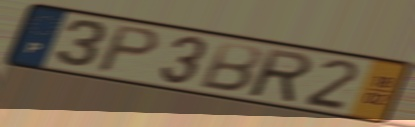2: (299, 59, 362, 113)
3: (54, 18, 112, 70), (156, 34, 209, 87)
B: (196, 39, 265, 94)
P: (92, 23, 164, 76)
R: (248, 46, 315, 105)
